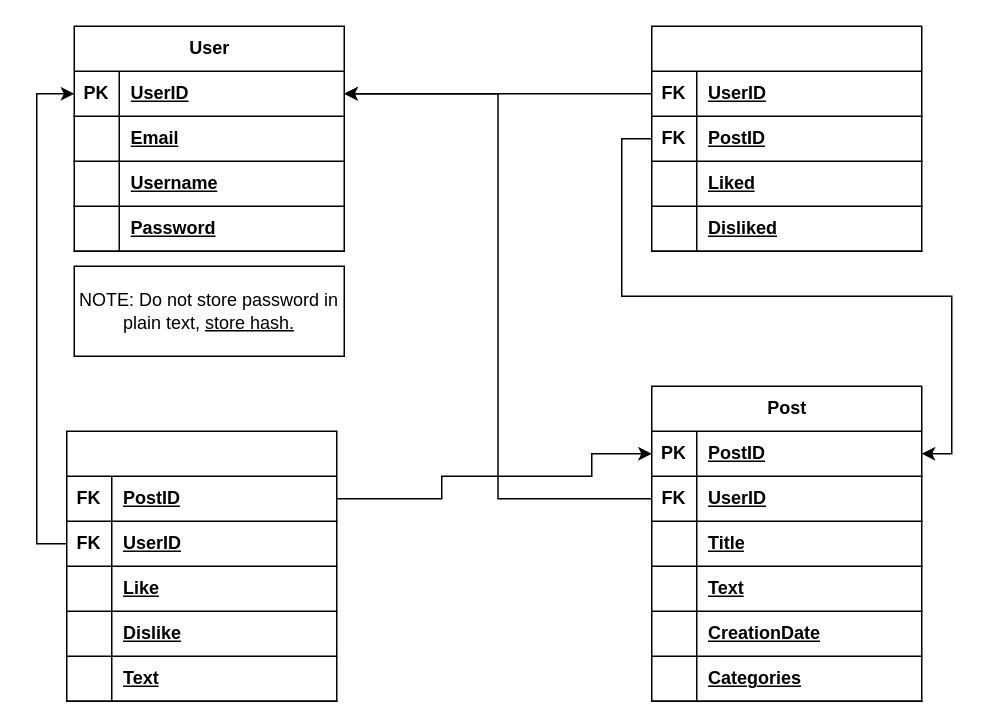
This 990x728 diagram has some shape labels left out. Each missing label, with the box of its shape:
Comments: (65, 430, 337, 701)
UserPost: (650, 25, 922, 251)
